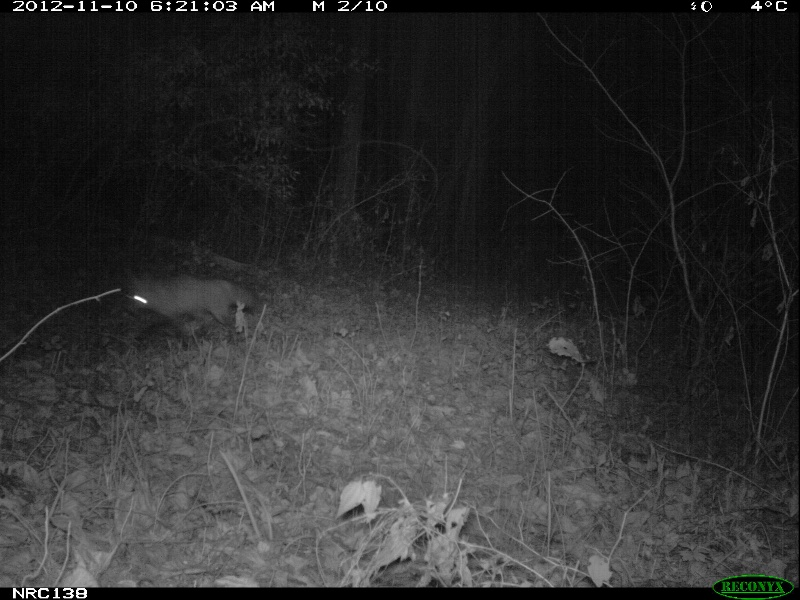fox: (123, 271, 257, 351)
